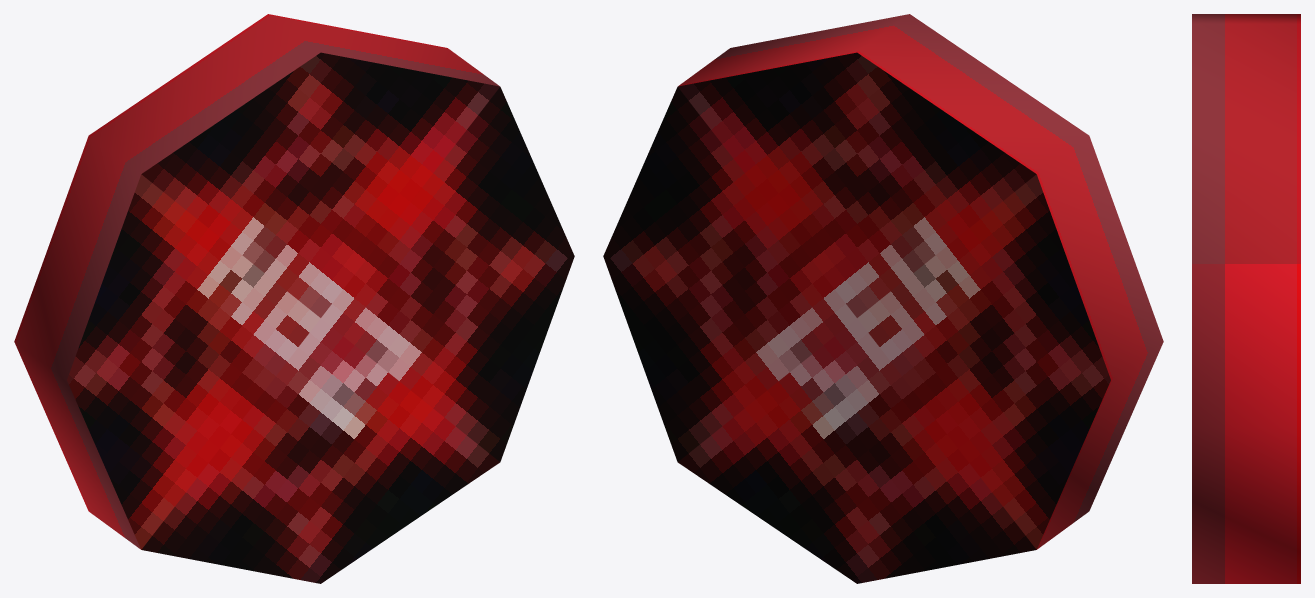
File: Event02.glb
3 renders of one model, left to right at view 1: azimuth 30°, elevation 25°; view 2: azimuth 150°, elevation 25°; view 3: azimuth 270°, elevation 25°, orthographic. The views are drawn at different scales.
Parts seen in each view (by area): view 1: model_Event02; view 2: model_Event02; view 3: model_Event02.
Boxes of the visible parts, <box> form: model_Event02: <box>14,14,574,583</box>; model_Event02: <box>603,14,1163,583</box>; model_Event02: <box>1192,14,1300,583</box>.
Size of the model in its own units: 0.2386 by 0.2386 by 0.0429.
Materials: 1 (1 with a texture image).
